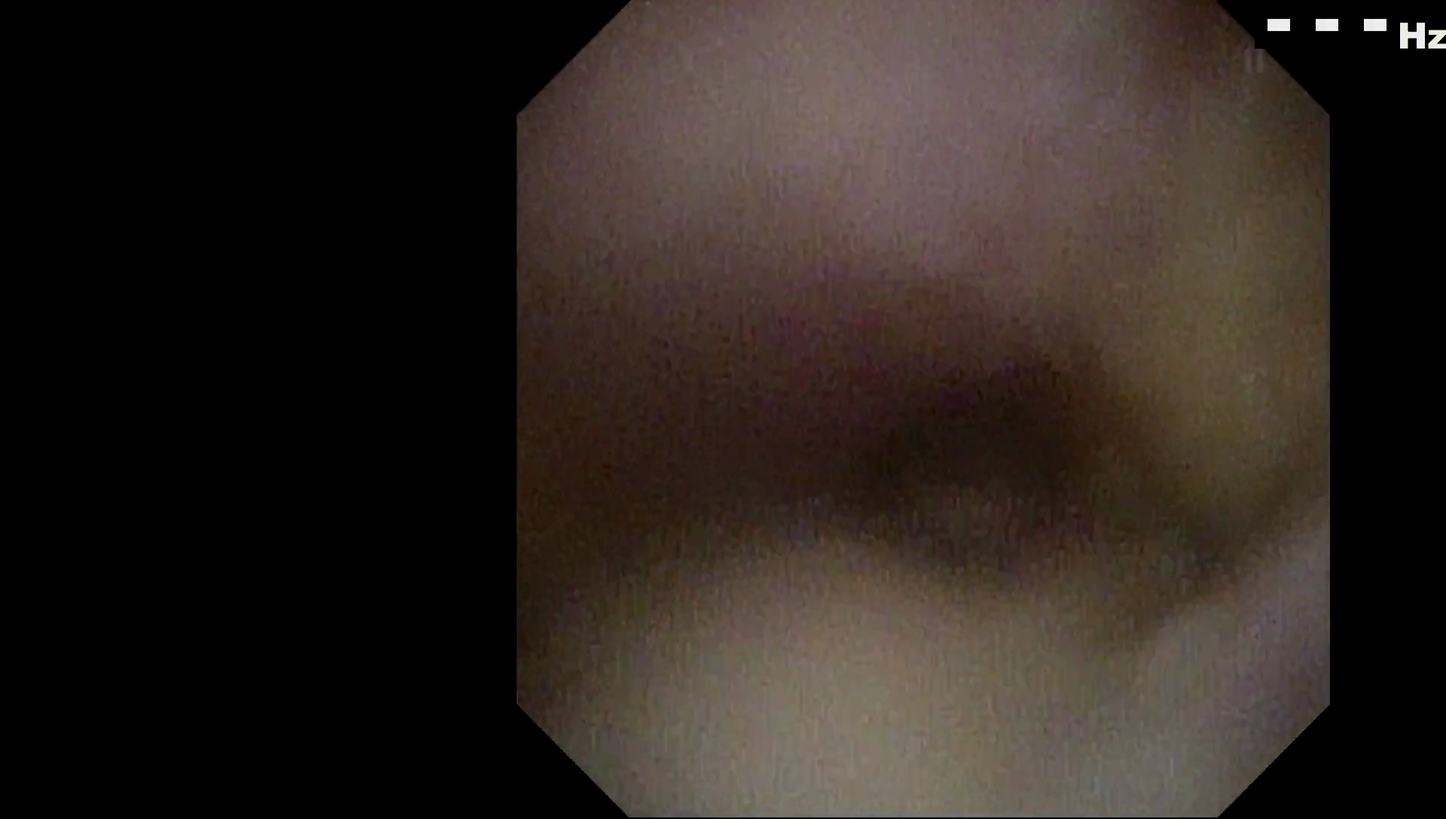next: (834, 316, 1171, 555)
